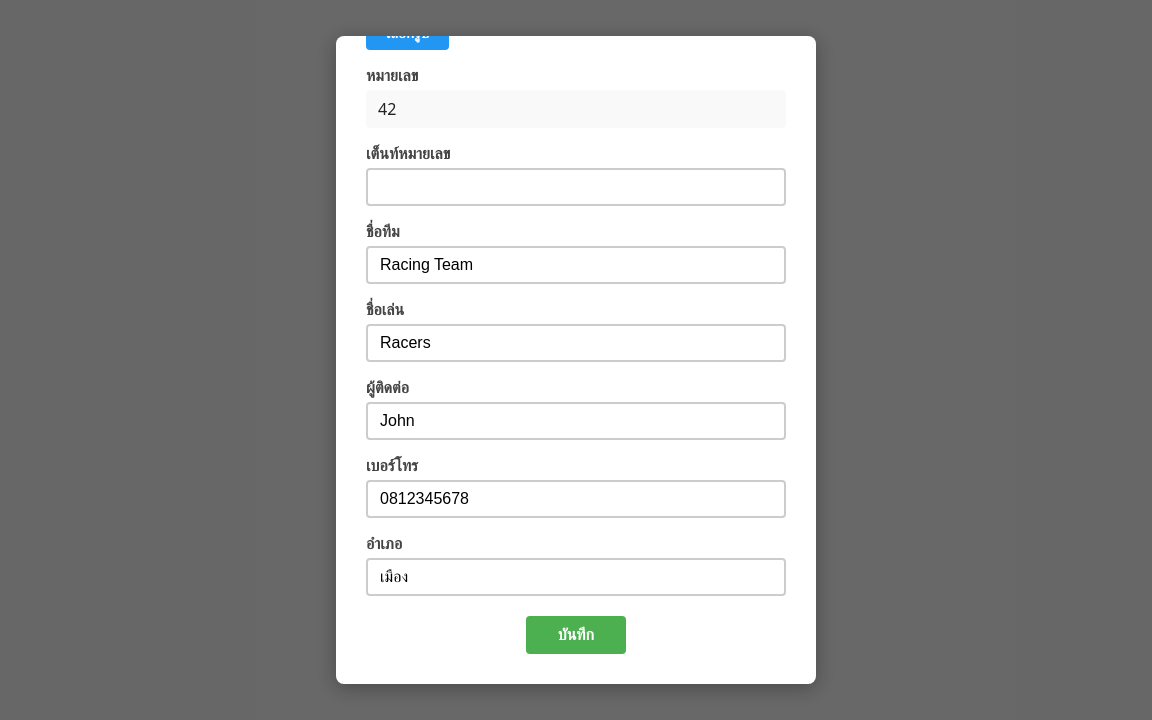
Test: TeamDetailModal › shows success message after save
(page scrolled)
Click the button "บันทึก".
click(576, 635)  # box top-left (526, 616), bottom-right (626, 654)
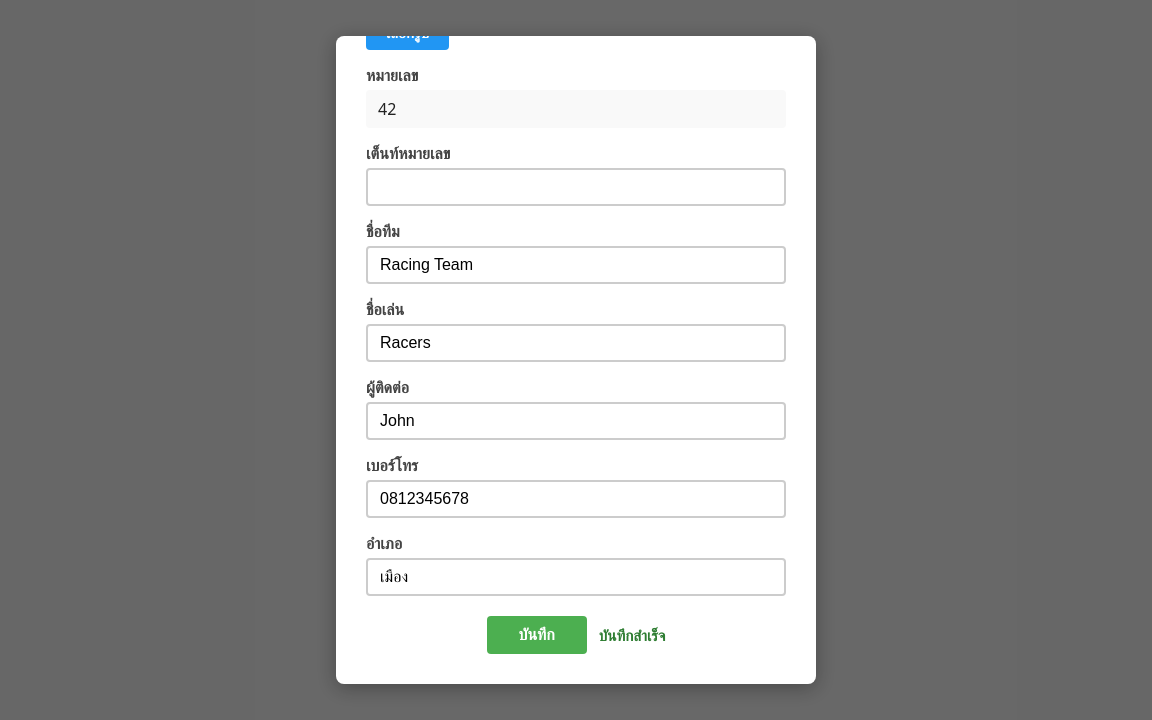
Expected: the text "บันทึกสำเร็จ" is shown, top-left (599, 625), bottom-right (665, 645)
